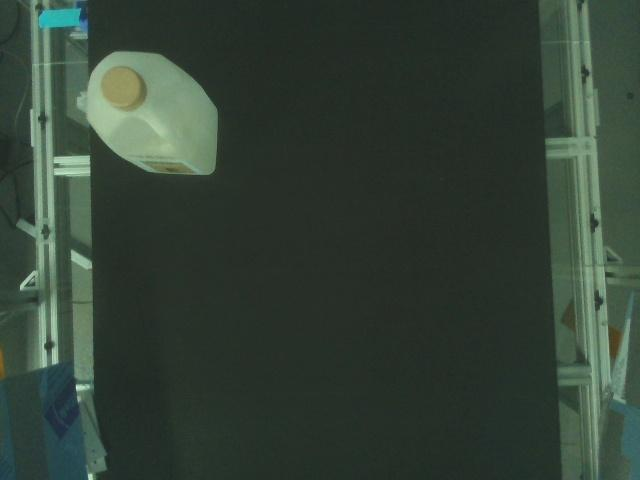plastic: (87, 51, 219, 176)
